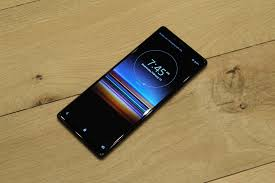sony: (54, 23, 210, 162)
